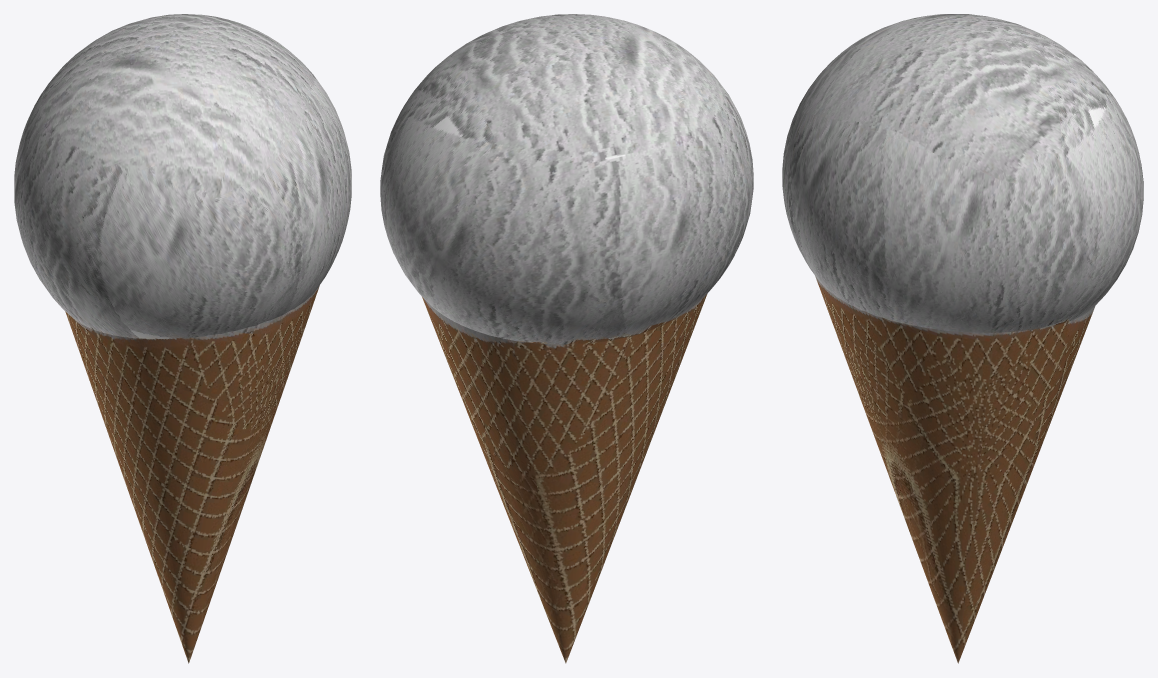
The model's file is icecream_treasure.fbx.
3 views of the same model, side by side, from view 1: azimuth 30°, elevation 25°; view 2: azimuth 150°, elevation 25°; view 3: azimuth 270°, elevation 25° (orthographic).
Parts seen in each view (by area): view 1: node_id29, node_id28; view 2: node_id29, node_id28; view 3: node_id29, node_id28.
Boxes of the visible parts, x1,y1,x2,y2 form: node_id29: [14, 14, 351, 339]; node_id28: [65, 285, 319, 663]; node_id29: [380, 14, 753, 344]; node_id28: [422, 294, 707, 663]; node_id29: [782, 14, 1143, 332]; node_id28: [815, 276, 1095, 663].
Size of the model in its own units: 0.2409 by 0.4749 by 0.2465.
2 materials, 2 textured.
